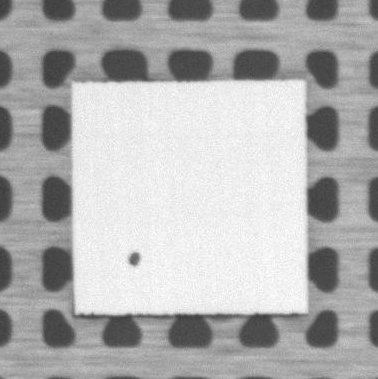DIE_INK: (129, 250, 142, 269)
